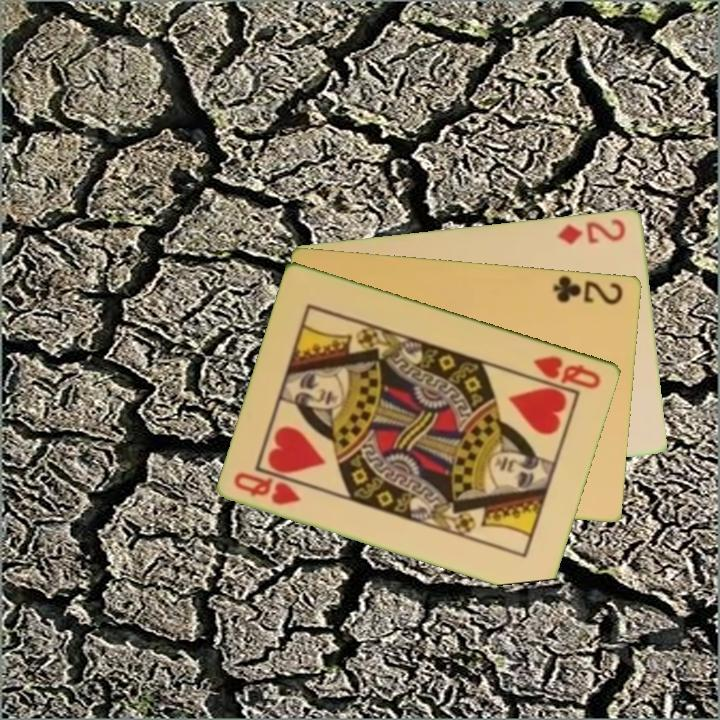2c: (550, 272, 626, 307)
2d: (554, 214, 629, 248)
Qh: (530, 351, 604, 392), (231, 468, 304, 508)
